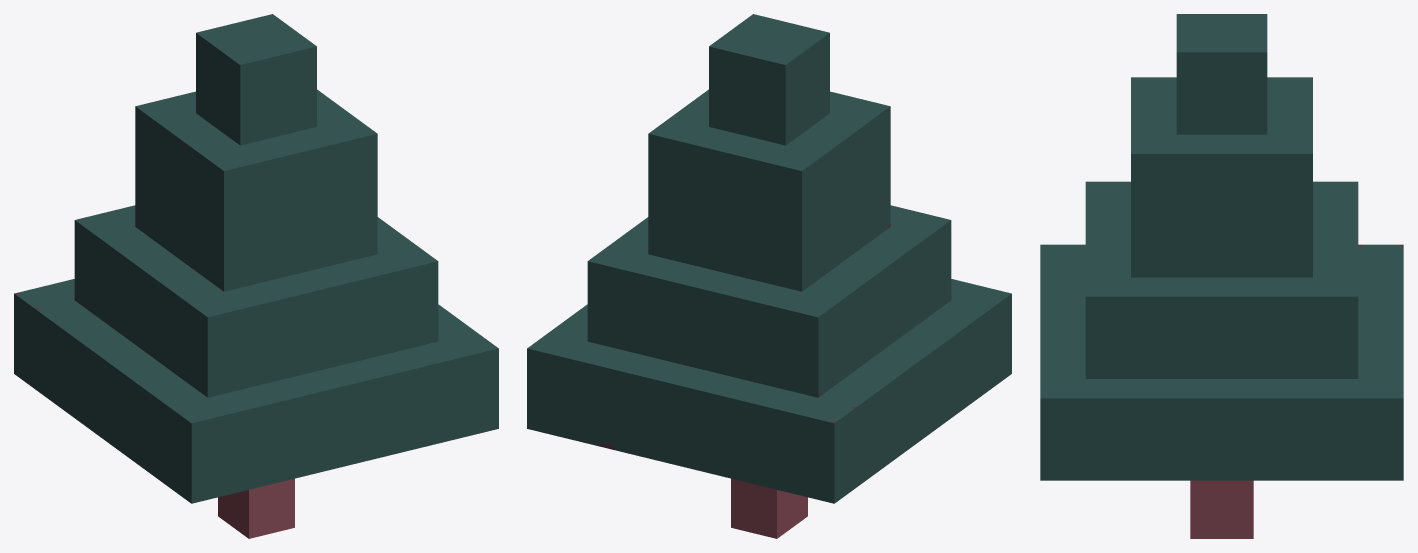
File: TreeBase2.fbx
The picture shows the model from 3 angles, left to right: view 1: azimuth 30°, elevation 25°; view 2: azimuth 150°, elevation 25°; view 3: azimuth 270°, elevation 25°; orthographic projection. The views are drawn at different scales.
Parts seen in each view (by area): view 1: Object; view 2: Object; view 3: Object.
Boxes of the visible parts, x1,y1,x2,y2 form: Object: [14, 14, 498, 538]; Object: [527, 14, 1011, 538]; Object: [1040, 14, 1403, 538].
Size of the model in its own units: 80 by 120 by 80.
